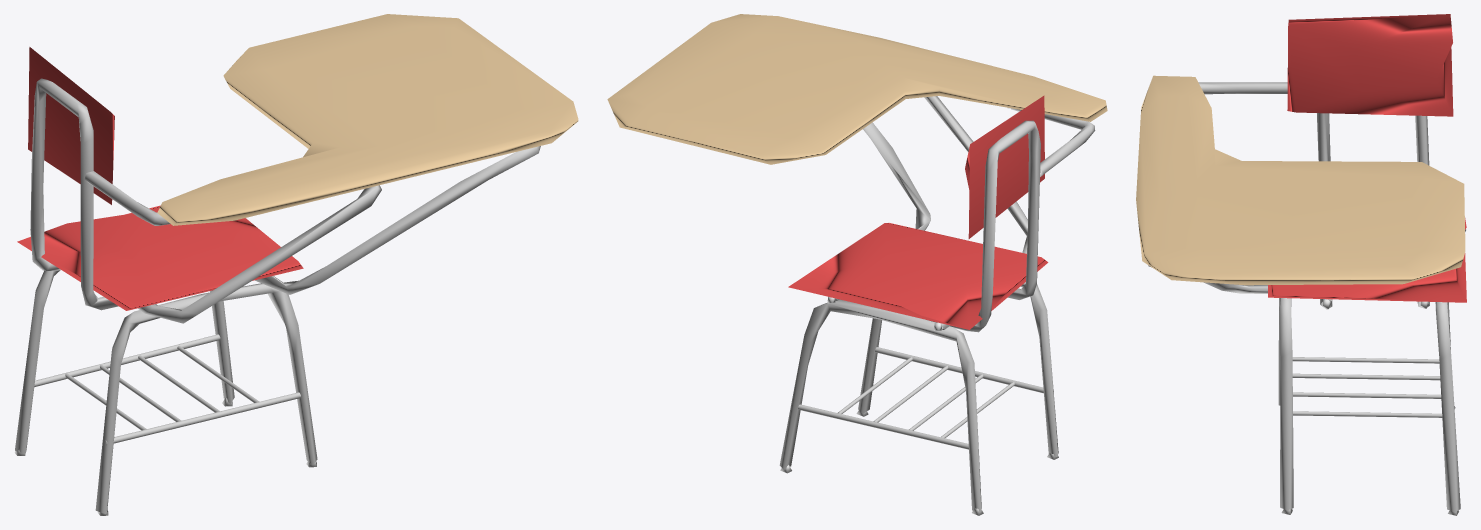
File: studentdeskLowRes.fbx
3 renders of one model, left to right at view 1: azimuth 30°, elevation 25°; view 2: azimuth 150°, elevation 25°; view 3: azimuth 270°, elevation 25°, orthographic. The views are drawn at different scales.
Visible parts, largest first — view 1: Mball_002, Cube, NurbsCurve, NurbsCurve_004, Cube_001, NurbsCurve_003, NurbsCurve_002, NurbsCurve_006, NurbsCurve_001, NurbsCurve_005; view 2: Mball_002, Cube, NurbsCurve_002, NurbsCurve_004, Cube_001, NurbsCurve_003, NurbsCurve, NurbsCurve_001, NurbsCurve_005, NurbsCurve_006; view 3: Mball_002, Cube_001, Cube, NurbsCurve_003, NurbsCurve_002, NurbsCurve_004, NurbsCurve_001, NurbsCurve_012, NurbsCurve_011, NurbsCurve_009, NurbsCurve_010, NurbsCurve.
Boxes of the visible parts, x1=… form: Mball_002: x1=157, y1=14, x2=578, y2=225; Cube: x1=17, y1=205, x2=303, y2=310; NurbsCurve: x1=138, y1=146, x2=540, y2=323; NurbsCurve_004: x1=30, y1=78, x2=118, y2=310; Cube_001: x1=28, y1=47, x2=114, y2=204; NurbsCurve_003: x1=95, y1=283, x2=317, y2=513; NurbsCurve_002: x1=15, y1=270, x2=234, y2=454; NurbsCurve_006: x1=106, y1=392, x2=300, y2=444; NurbsCurve_001: x1=85, y1=171, x2=170, y2=225; NurbsCurve_005: x1=34, y1=334, x2=220, y2=386; Mball_002: x1=607, y1=14, x2=1107, y2=164; Cube: x1=788, y1=223, x2=1048, y2=329; NurbsCurve_002: x1=779, y1=299, x2=981, y2=512; NurbsCurve_004: x1=931, y1=120, x2=1040, y2=332; Cube_001: x1=965, y1=95, x2=1044, y2=238; NurbsCurve_003: x1=858, y1=282, x2=1058, y2=456; NurbsCurve: x1=827, y1=96, x2=1027, y2=329; NurbsCurve_001: x1=1011, y1=108, x2=1095, y2=176; NurbsCurve_005: x1=798, y1=404, x2=968, y2=449; NurbsCurve_006: x1=875, y1=347, x2=1053, y2=393; Mball_002: x1=1136, y1=75, x2=1465, y2=285; Cube_001: x1=1287, y1=14, x2=1453, y2=116; Cube: x1=1268, y1=218, x2=1466, y2=302; NurbsCurve_003: x1=1278, y1=298, x2=1293, y2=510; NurbsCurve_002: x1=1435, y1=302, x2=1460, y2=511; NurbsCurve_004: x1=1317, y1=113, x2=1429, y2=309; NurbsCurve_001: x1=1198, y1=82, x2=1287, y2=94; NurbsCurve_012: x1=1293, y1=411, x2=1442, y2=417; NurbsCurve_011: x1=1293, y1=392, x2=1441, y2=398; NurbsCurve_009: x1=1292, y1=357, x2=1439, y2=363; NurbsCurve_010: x1=1292, y1=373, x2=1440, y2=380; NurbsCurve: x1=1148, y1=265, x2=1267, y2=293.
Bounding box in the file's own units: 5.69 × 5.11 × 3.8.
